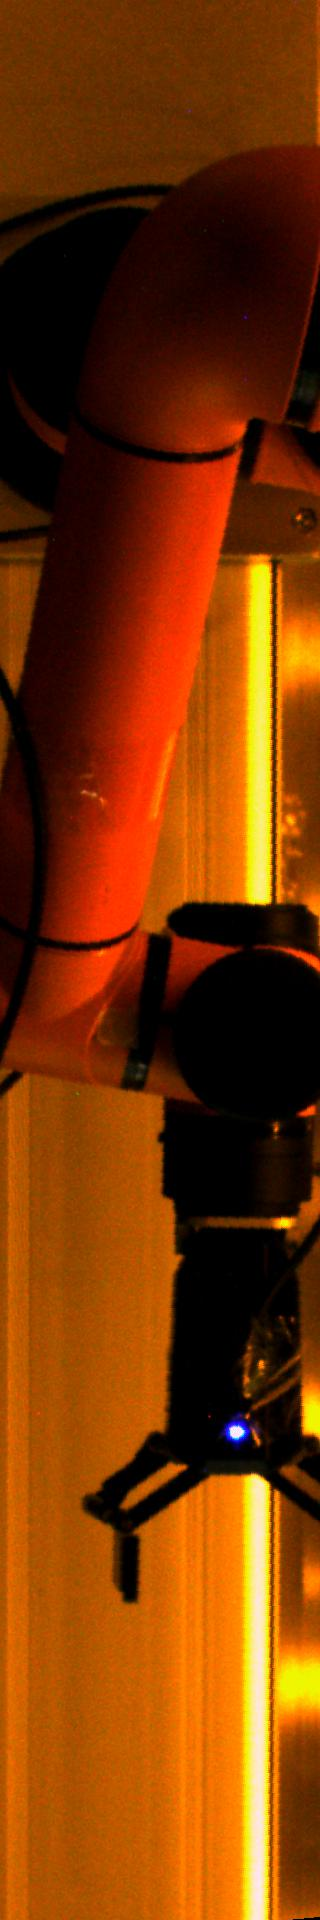keyPoint_1: (221, 1414, 251, 1444)
